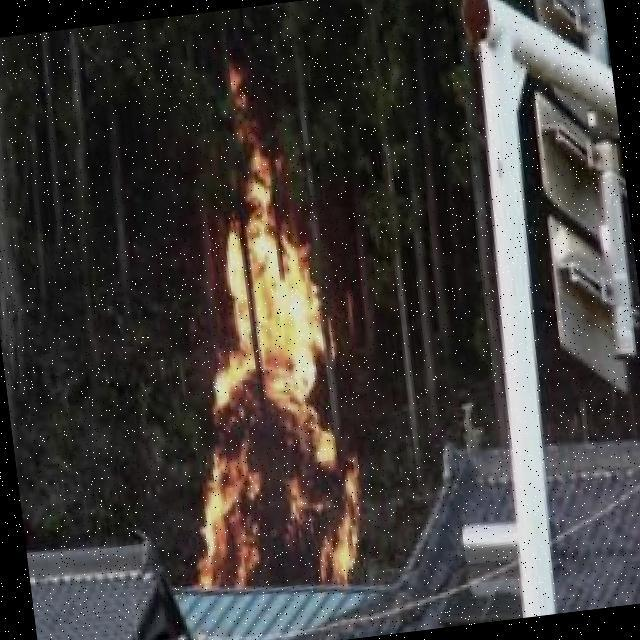Fire: (163, 214, 376, 597)
